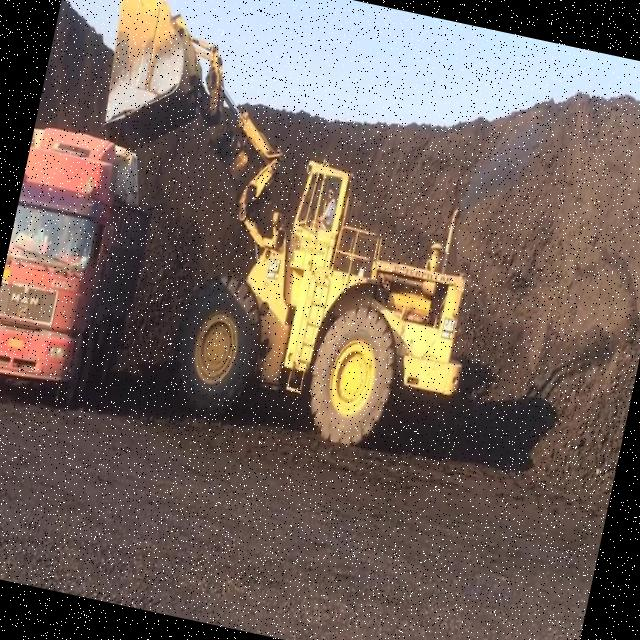Dump Truck: (0, 122, 167, 418)
Loader: (33, 0, 531, 467)
